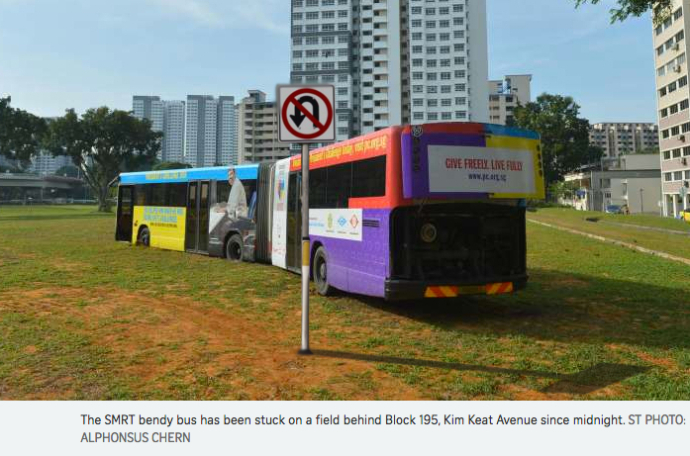No_u_turn: (280, 87, 334, 139)
